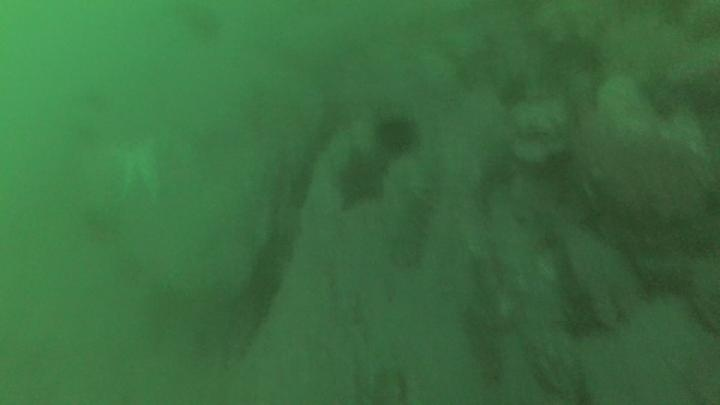echinus: (373, 113, 420, 155)
holothurian: (384, 163, 440, 270)
starfish: (331, 146, 390, 210)
